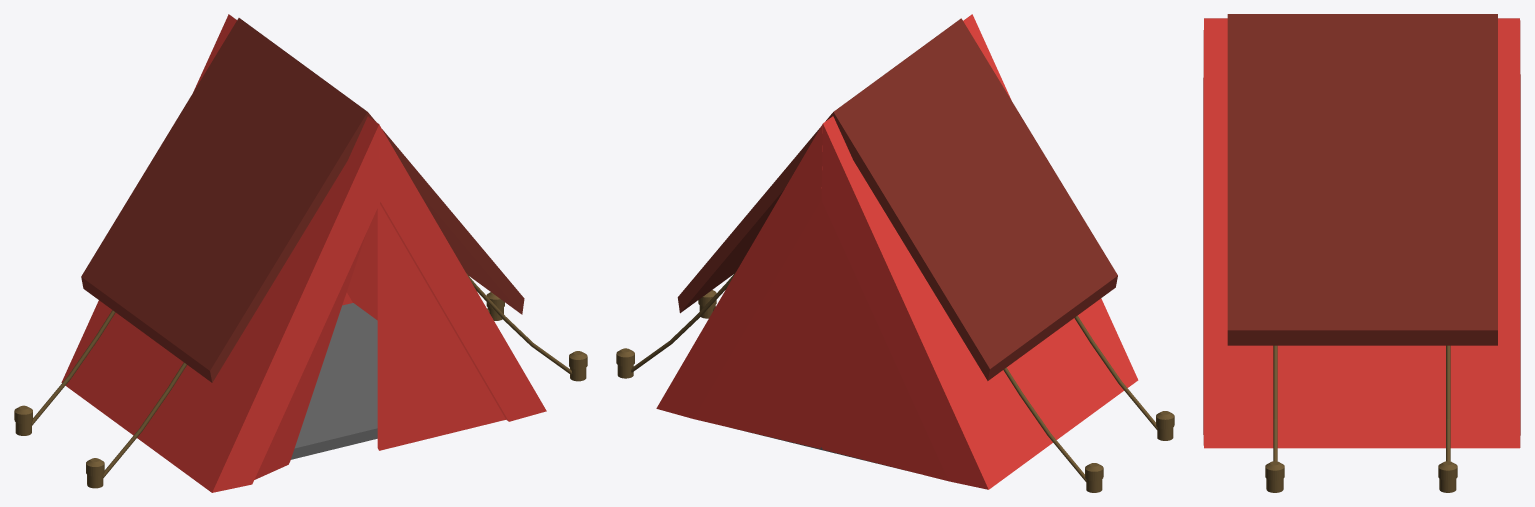
The model's file is Red Tent.glb.
The picture shows the model from 3 angles, left to right: view 1: azimuth 30°, elevation 25°; view 2: azimuth 150°, elevation 25°; view 3: azimuth 270°, elevation 25°; orthographic projection. The views are drawn at different scales.
Parts seen in each view (by area): view 1: Cube, Cube.001, Plane, Cylinder.003, Cylinder.004, Cylinder.010; view 2: Cube, Cube.001, Cylinder.004, Cylinder.003, Cylinder.009; view 3: Cube.001, Cube, Cylinder.009, Cylinder.010, Cylinder.008.
Boxes of the visible parts, x1,y1,x2,y2 form: Cube: [61, 14, 546, 492]; Cube.001: [81, 18, 524, 382]; Plane: [291, 303, 377, 459]; Cylinder.003: [103, 362, 186, 477]; Cylinder.004: [32, 310, 115, 425]; Cylinder.010: [466, 273, 572, 374]; Cube: [656, 14, 1138, 489]; Cube.001: [677, 18, 1117, 380]; Cylinder.004: [1003, 367, 1086, 481]; Cylinder.003: [1074, 316, 1157, 429]; Cylinder.009: [631, 272, 735, 372]; Cube.001: [1227, 14, 1497, 345]; Cube: [1203, 18, 1520, 448]; Cylinder.009: [1446, 345, 1450, 461]; Cylinder.010: [1273, 345, 1277, 461]; Cylinder.008: [1438, 461, 1457, 480].
Size of the model in its own units: 0.4899 by 0.3255 by 0.2629.
